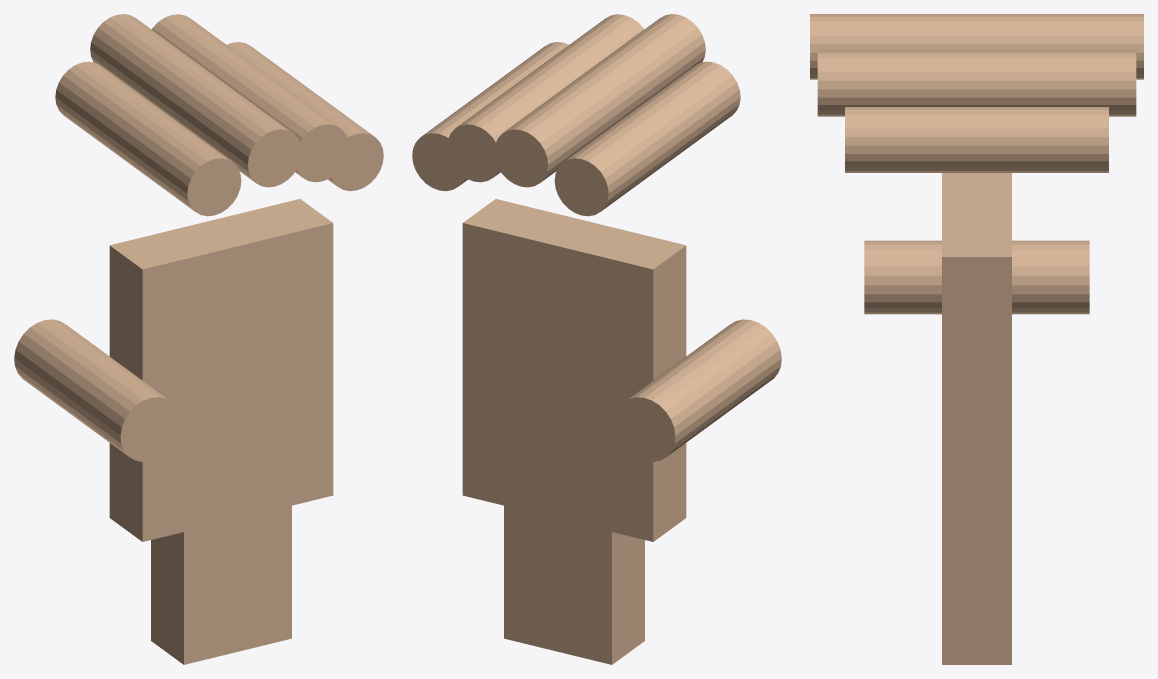
The model's file is raise-hand.glb.
The picture shows the model from 3 angles, left to right: view 1: azimuth 30°, elevation 25°; view 2: azimuth 150°, elevation 25°; view 3: azimuth 270°, elevation 25°; orthographic projection. The views are drawn at different scales.
Visible parts, largest first — view 1: RaiseHand; view 2: RaiseHand; view 3: RaiseHand.
Part boxes in pixels (<box>): RaiseHand: <box>14,14,383,664</box>; RaiseHand: <box>412,14,781,664</box>; RaiseHand: <box>810,14,1143,664</box>.
Size of the model in its own units: 0.102 by 0.22 by 0.1097.
